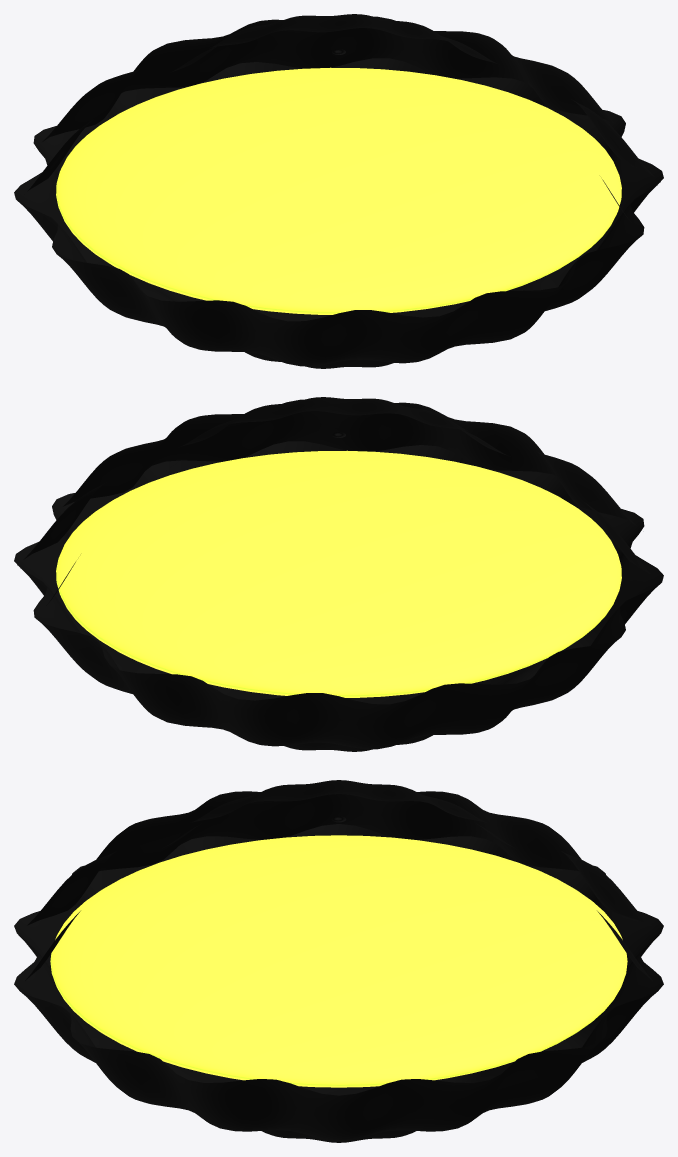
3 renders of one model, top to bottom at view 1: azimuth 30°, elevation 25°; view 2: azimuth 150°, elevation 25°; view 3: azimuth 270°, elevation 25°, orthographic.
Parts seen in each view (by area): view 1: an, shell_bot, shell_top; view 2: an, shell_bot, shell_top; view 3: an, shell_bot, shell_top.
Part boxes in pixels (x1,y1,x2,y2): an: (56, 67, 621, 314); shell_bot: (14, 58, 663, 368); shell_top: (27, 14, 660, 222); an: (56, 450, 621, 697); shell_bot: (14, 441, 663, 751); shell_top: (17, 397, 649, 605); an: (50, 835, 627, 1087); shell_bot: (14, 824, 663, 1142); shell_top: (25, 780, 652, 980).
Size of the model in its own units: 1.89 by 0.8915 by 1.85.
